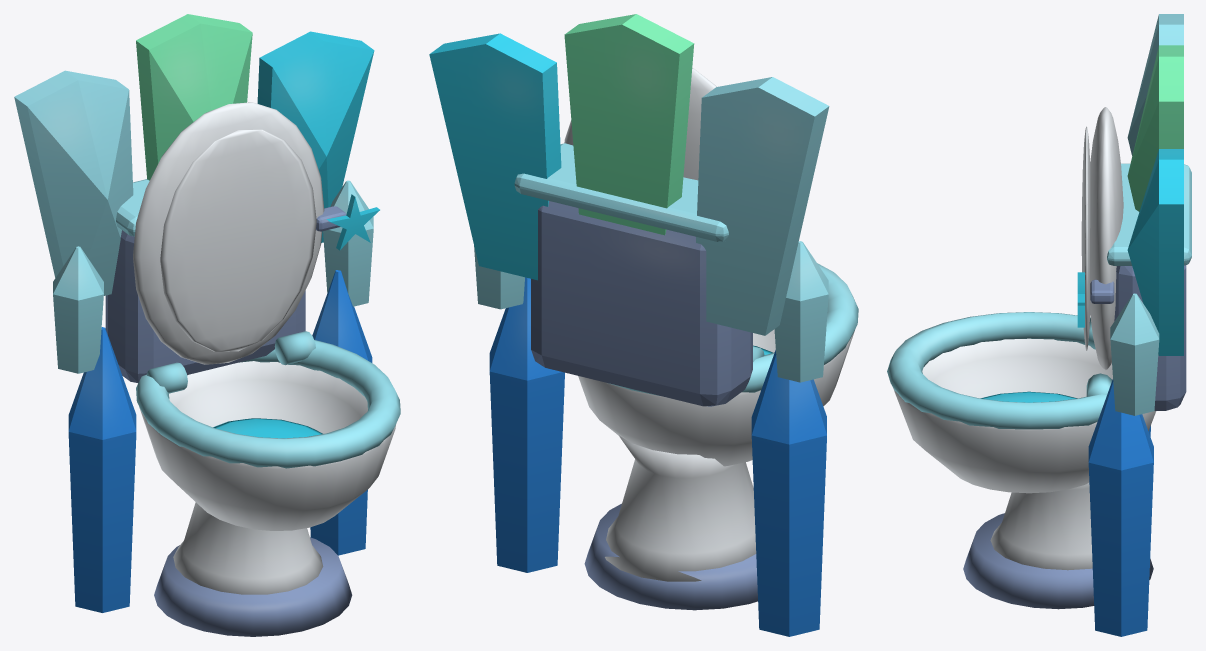
File: AuroraThrone.fbx
3 views of the same model, side by side, from view 1: azimuth 30°, elevation 25°; view 2: azimuth 150°, elevation 25°; view 3: azimuth 270°, elevation 25° (orthographic). The views are drawn at different scales.
Visible parts, largest first — view 1: AuroraThrone; view 2: AuroraThrone; view 3: AuroraThrone.
Part boxes in pixels (x1=…): AuroraThrone: x1=14, y1=14, x2=400, y2=636; AuroraThrone: x1=429, y1=14, x2=858, y2=636; AuroraThrone: x1=887, y1=14, x2=1191, y2=636.
Bounding box in the file's own units: 3.68 × 5.4 × 2.91.
1 material, 1 textured.
